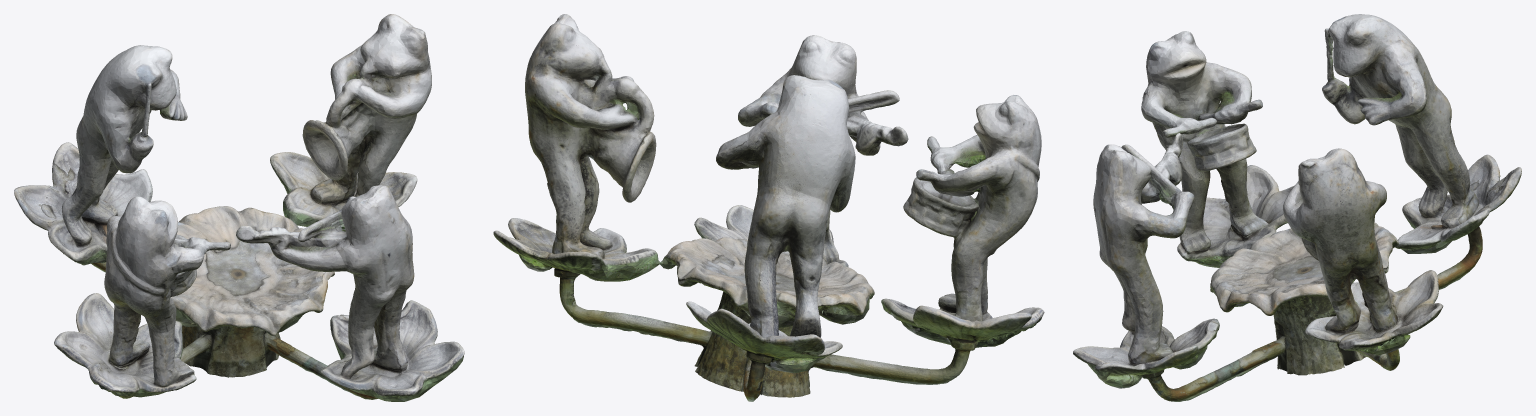
File: FrodOrchestraOculusReady.glb
3 views of the same model, side by side, from view 1: azimuth 30°, elevation 25°; view 2: azimuth 150°, elevation 25°; view 3: azimuth 270°, elevation 25° (orthographic). The views are drawn at different scales.
Bounding box in the file's own units: 3.79 × 2.75 × 3.5.
Materials: 3 (3 with a texture image).
